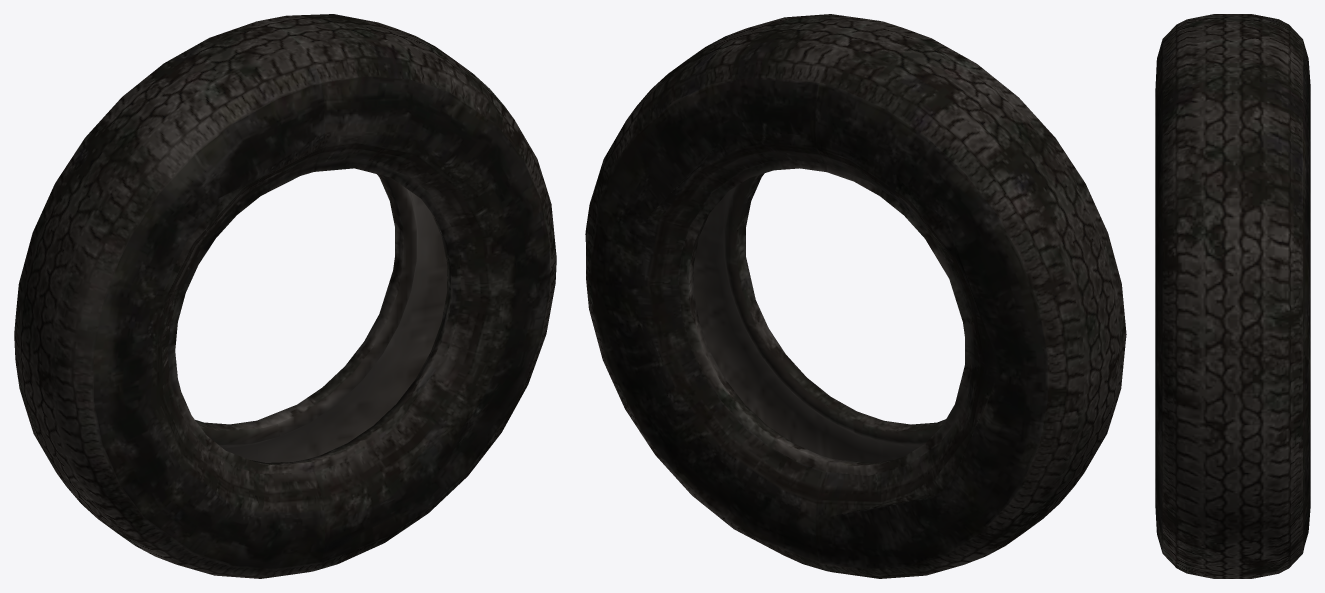
File: tyre.glb
3 renders of one model, left to right at view 1: azimuth 30°, elevation 25°; view 2: azimuth 150°, elevation 25°; view 3: azimuth 270°, elevation 25°, orthographic. The views are drawn at different scales.
Visible parts, largest first — view 1: old_tyre; view 2: old_tyre; view 3: old_tyre.
Boxes of the visible parts, x1,y1,x2,y2 form: old_tyre: (14, 14, 556, 578); old_tyre: (585, 14, 1126, 578); old_tyre: (1155, 14, 1310, 578).
Bounding box in the file's own units: 0.6 × 0.6 × 0.165.
1 material, 1 textured.
